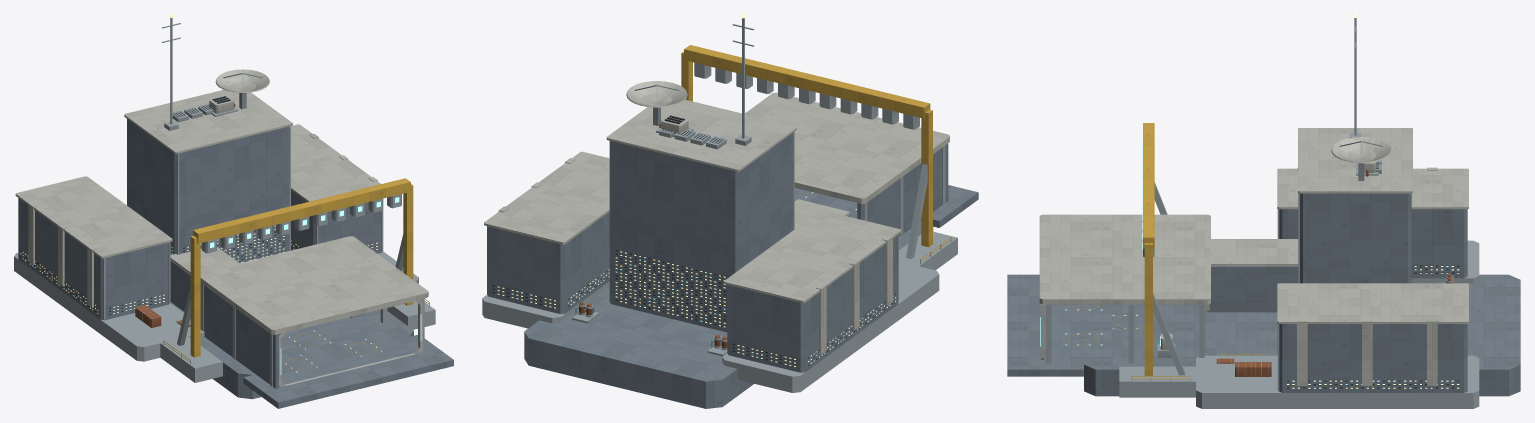
Rendered from gatehouse-twelve.glb.
3 views of the same model, side by side, from view 1: azimuth 30°, elevation 25°; view 2: azimuth 150°, elevation 25°; view 3: azimuth 270°, elevation 25° (orthographic). The views are drawn at different scales.
Visible parts, largest first — view 1: gatehouse-twelve / hull, gatehouse-twelve / armor, gatehouse-twelve / metal, gatehouse-twelve / ochre, gatehouse-twelve / cool, gatehouse-twelve / dark, gatehouse-twelve / copper, gatehouse-twelve / warm; view 2: gatehouse-twelve / hull, gatehouse-twelve / armor, gatehouse-twelve / metal, gatehouse-twelve / ochre, gatehouse-twelve / warm, gatehouse-twelve / dark, gatehouse-twelve / glass; view 3: gatehouse-twelve / hull, gatehouse-twelve / armor, gatehouse-twelve / metal, gatehouse-twelve / ochre, gatehouse-twelve / copper.
Part boxes in pixels (box(x1,y1,x2,y2)): gatehouse-twelve / hull: box(18, 119, 453, 408); gatehouse-twelve / armor: box(15, 69, 428, 386); gatehouse-twelve / metal: box(14, 17, 435, 386); gatehouse-twelve / ochre: box(164, 178, 428, 369); gatehouse-twelve / cool: box(32, 197, 421, 374); gatehouse-twelve / dark: box(23, 96, 376, 314); gatehouse-twelve / copper: box(135, 103, 235, 327); gatehouse-twelve / warm: box(20, 14, 377, 313); gatehouse-twelve / hull: box(487, 132, 978, 408); gatehouse-twelve / armor: box(484, 81, 949, 354); gatehouse-twelve / metal: box(482, 18, 957, 392); gatehouse-twelve / ochre: box(681, 45, 950, 261); gatehouse-twelve / warm: box(497, 14, 895, 366); gatehouse-twelve / dark: box(492, 115, 895, 364); gatehouse-twelve / glass: box(493, 250, 895, 365); gatehouse-twelve / hull: box(1007, 193, 1520, 396); gatehouse-twelve / armor: box(1039, 128, 1468, 385); gatehouse-twelve / metal: box(1046, 18, 1479, 408); gatehouse-twelve / ochre: box(1069, 123, 1266, 379); gatehouse-twelve / copper: box(1216, 169, 1452, 376).
Bounding box in the file's own units: 124 × 118 × 174.
9 materials, 4 textured.
